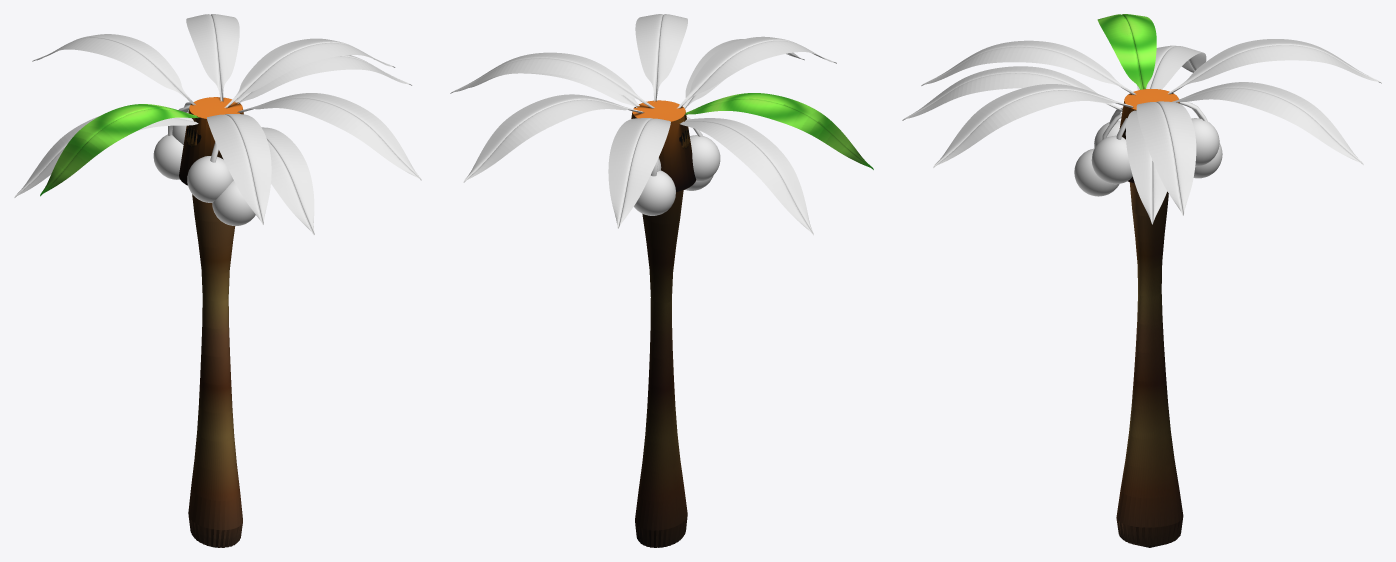
The model's file is coconut tree_02.fbx.
3 views of the same model, side by side, from view 1: azimuth 30°, elevation 25°; view 2: azimuth 150°, elevation 25°; view 3: azimuth 270°, elevation 25° (orthographic). The views are drawn at different scales.
Parts seen in each view (by area): view 1: 柱体, 平面.007, 平面.004, 平面.006, 平面.008, 平面.005, 平面.002, 平面.003, 柱体.001, 平面, 球体.002, 平面.001 (+2 smaller); view 2: 柱体, 平面.001, 平面.002, 平面.003, 平面.004, 平面.005, 平面.007, 平面.006, 柱体.001, 球体.003, 球体.002, 平面.008 (+1 smaller); view 3: 柱体, 平面.005, 平面.006, 平面.003, 平面.007, 平面.002, 平面.008, 平面.004, 平面, 球体.004, 平面.001, 球体 (+2 smaller).
Part boxes in pixels (<box>): 柱体: <box>186,127,242,547</box>; 平面.007: <box>207,114,271,224</box>; 平面.004: <box>40,104,199,196</box>; 平面.006: <box>237,93,421,180</box>; 平面.008: <box>261,127,314,235</box>; 平面.005: <box>224,38,395,108</box>; 平面.002: <box>32,34,195,105</box>; 平面.003: <box>186,14,239,101</box>; 柱体.001: <box>179,97,243,185</box>; 平面: <box>234,55,411,103</box>; 球体.002: <box>187,156,233,202</box>; 平面.001: <box>14,116,198,197</box>; 柱体: <box>635,127,689,547</box>; 平面.001: <box>680,118,813,235</box>; 平面.002: <box>608,118,670,228</box>; 平面.003: <box>463,94,644,182</box>; 平面.004: <box>685,93,873,169</box>; 平面.005: <box>450,52,654,108</box>; 平面.007: <box>677,36,836,108</box>; 平面.006: <box>635,14,687,101</box>; 柱体.001: <box>631,100,696,191</box>; 球体.003: <box>634,170,675,215</box>; 球体.002: <box>690,135,720,181</box>; 平面.008: <box>682,39,804,108</box>; 柱体: <box>1116,182,1183,547</box>; 平面.005: <box>1136,101,1196,215</box>; 平面.006: <box>933,84,1133,167</box>; 平面.003: <box>1172,82,1363,165</box>; 平面.007: <box>921,40,1136,95</box>; 平面.002: <box>1168,39,1381,94</box>; 平面.008: <box>902,66,1122,120</box>; 平面.004: <box>1097,14,1156,89</box>; 平面: <box>1125,110,1167,224</box>; 球体.004: <box>1091,135,1132,184</box>; 平面.001: <box>1137,45,1206,90</box>; 球体: <box>1074,148,1119,196</box>.
Size of the model in its own units: 3527 by 4057 by 3654.
Materials: 21 (3 with a texture image).
